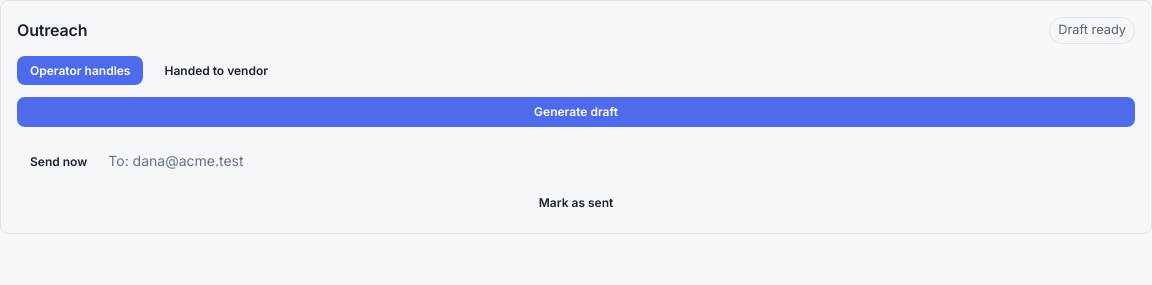
Scenario: OutreachPanel › shows an alert and does not refresh when send fails
Click the button "Send now" at {"x": 59, "y": 161}, box [17,147,100,176]
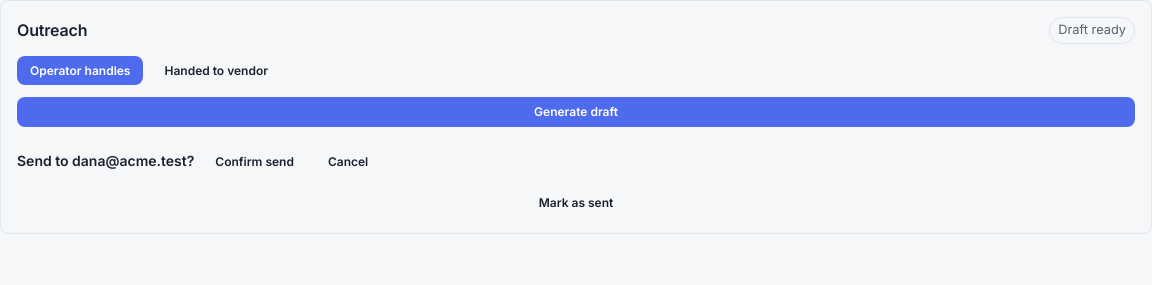
Click the button "Confirm send" at {"x": 255, "y": 161}, box [202,147,307,176]
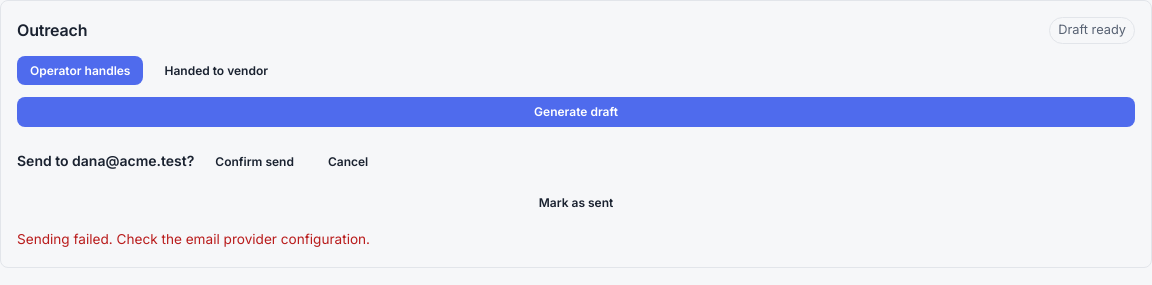
Result: the message shows "Sending failed" at [17,231,370,247]
